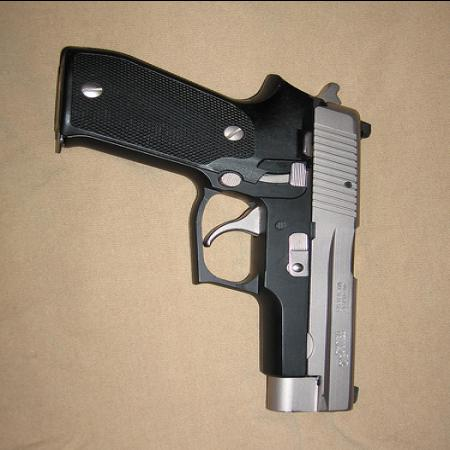Pistol: (58, 45, 374, 413)
